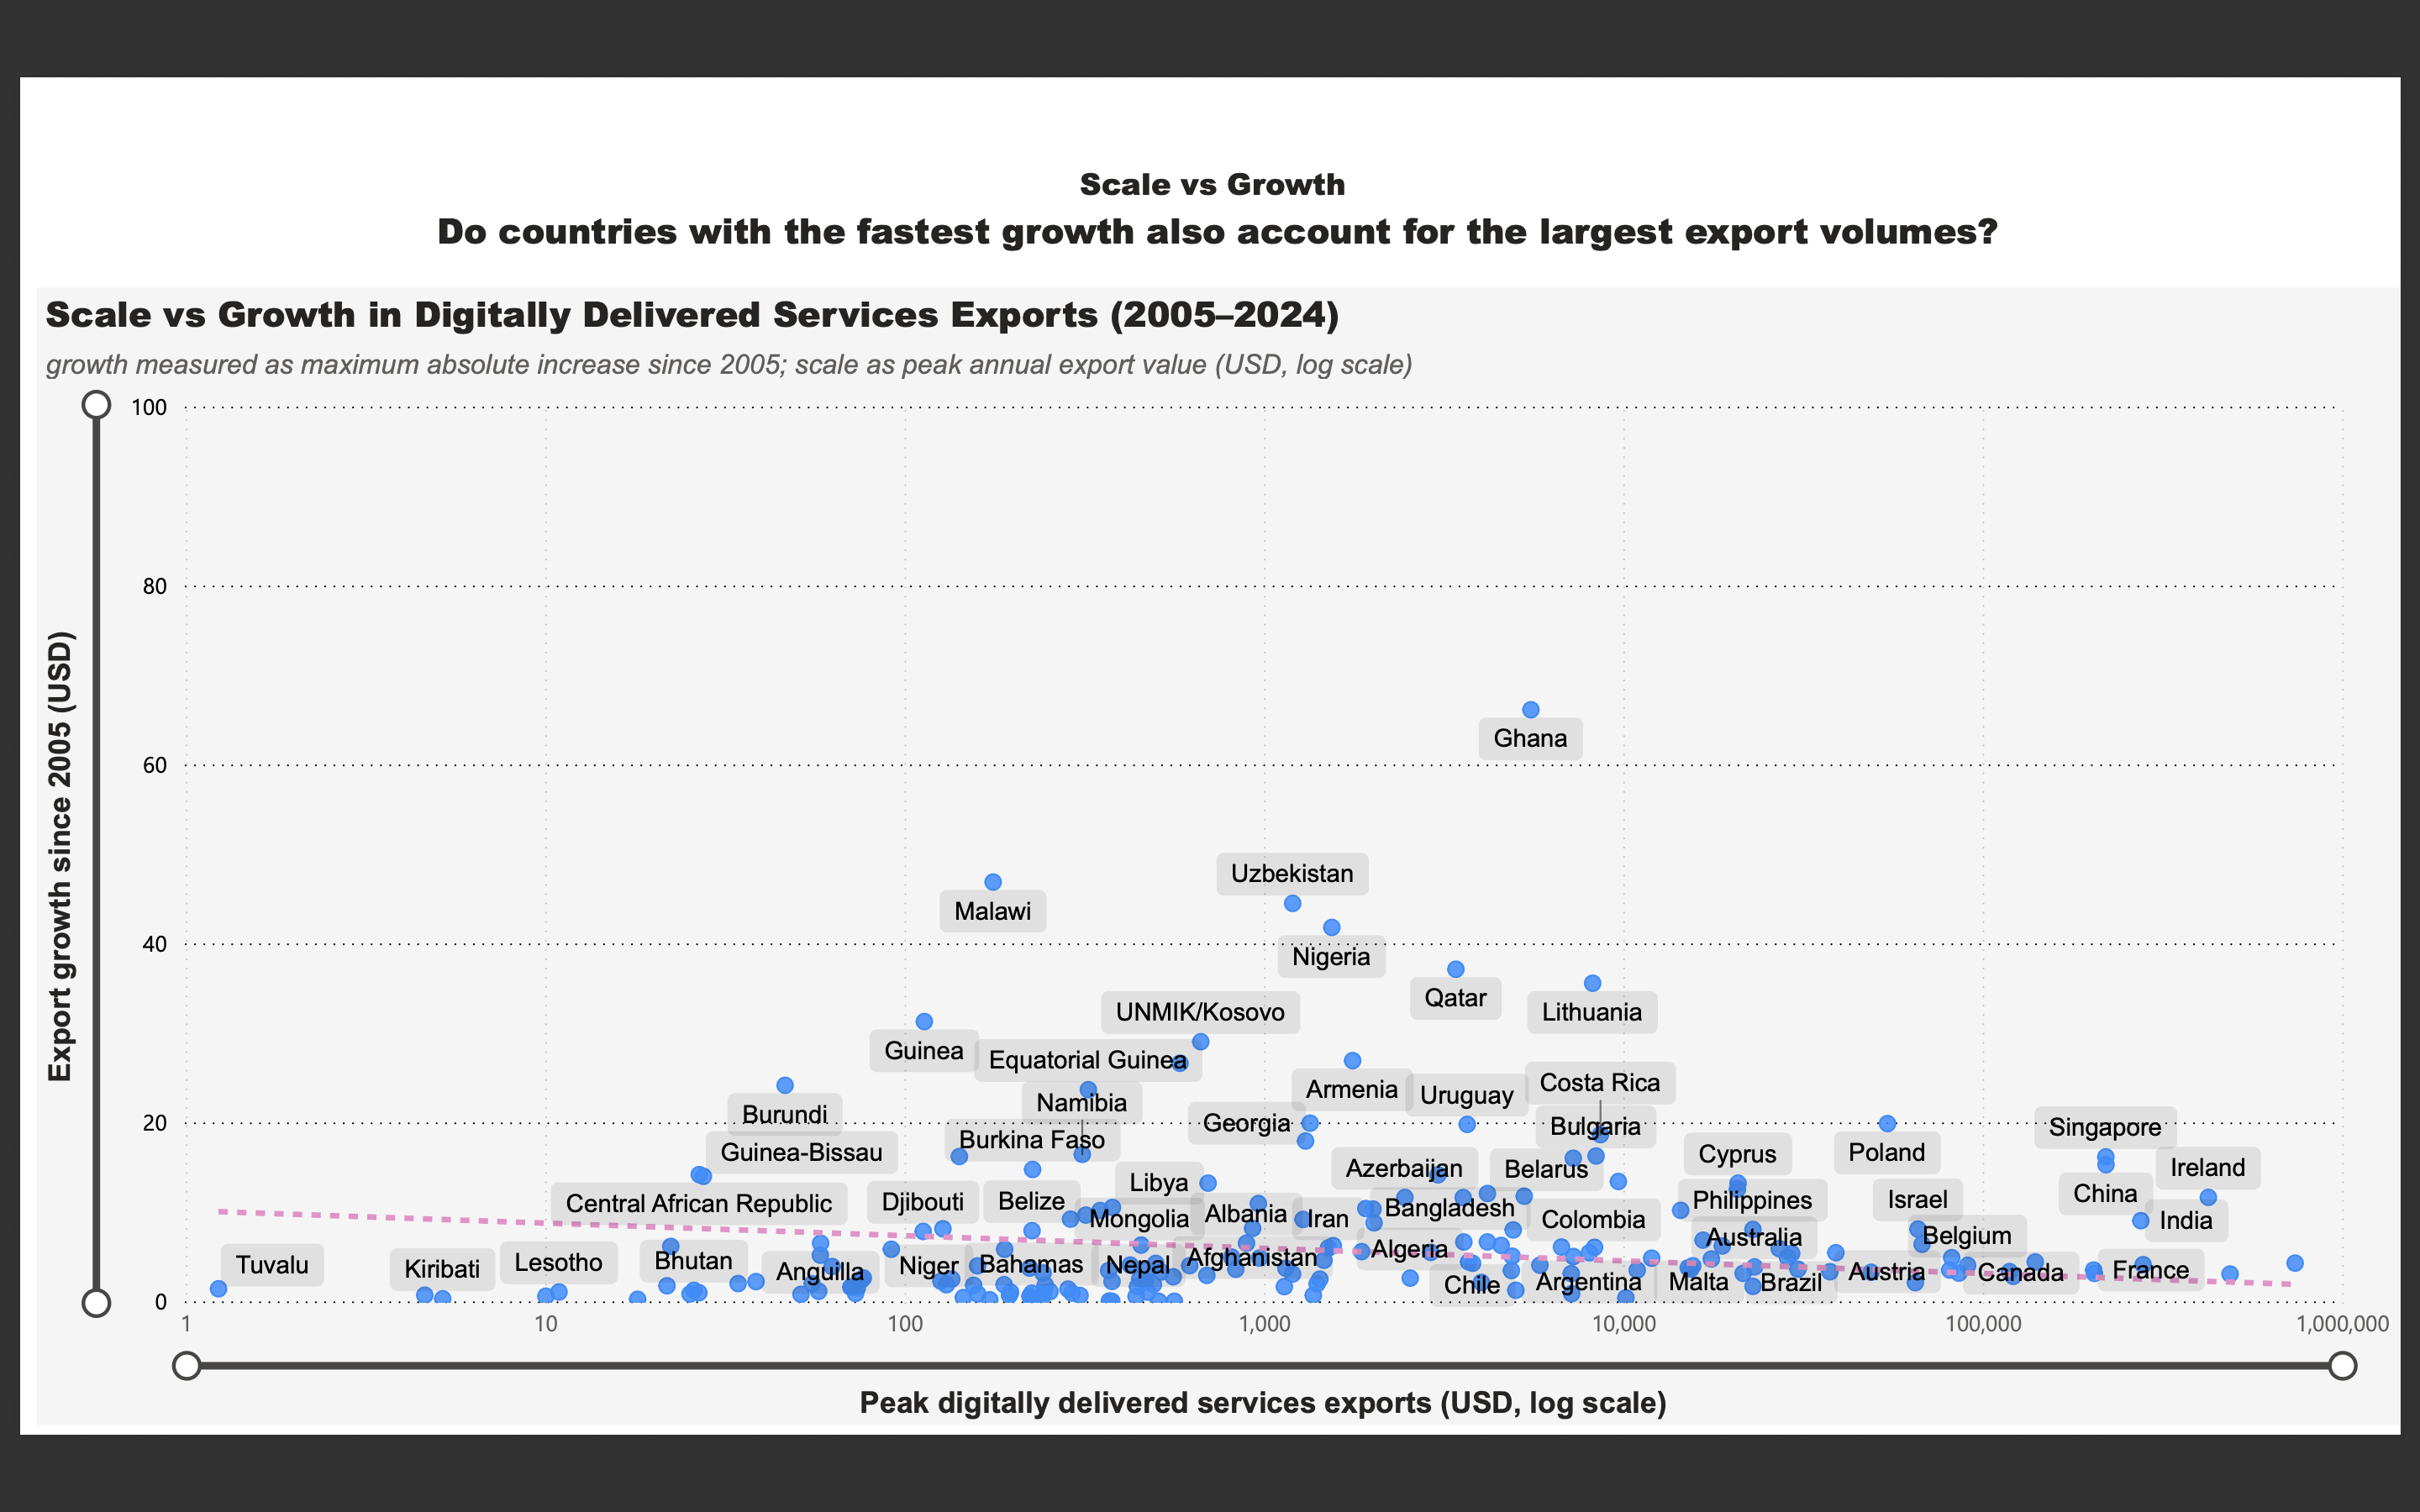

What the dashboard file says about the page in this screenshot:
{"tool":"powerbi","page":{"name":"Page 3","canvas":[1280,720],"ordinal":2},"visuals":[{"type":"textbox","box":[9.5,34.8,1270.5,90.2],"z":0},{"type":"scatterChart","title":"Scale vs Growth in Digitally Delivered Services Exports (2005–2024)","fields":{"Y":["Max(dds_bi_country_year_final 1.country_dds_exports_growth_2005_2024)"],"X":["Max(dds_bi_country_year_final 1.exports_digital_services_usd_million)"],"Category":["dds_bi_country_year_final 1.country"]},"box":[9.5,107.6,1270.5,612.3],"z":1}]}

Visuals, with their boxes on the page's 1280x720 design canvas (x1, y1, x2, y2). These are canvas units, not pixel positions in the 2420x1512 screenshot, which may show the page scaled, cropped or inside an application window:
textbox: 10/35/1280/125
"Scale vs Growth in Digitally Delivered Services Exports (2005–2024)" scatterChart: 10/108/1280/720
